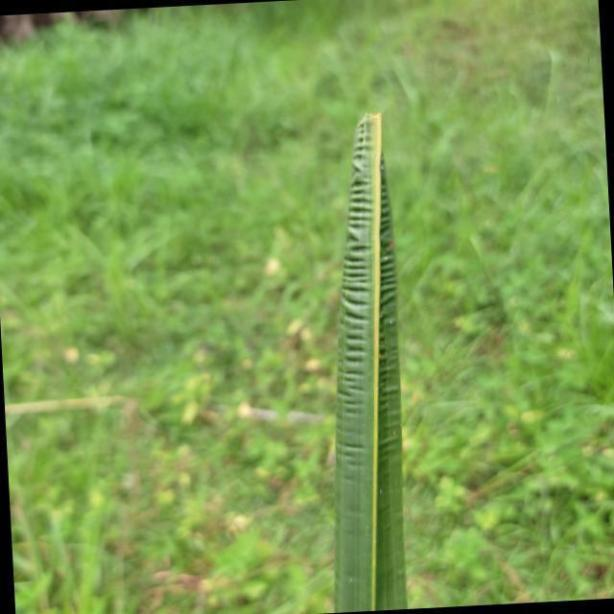Boron: (334, 103, 406, 614)
